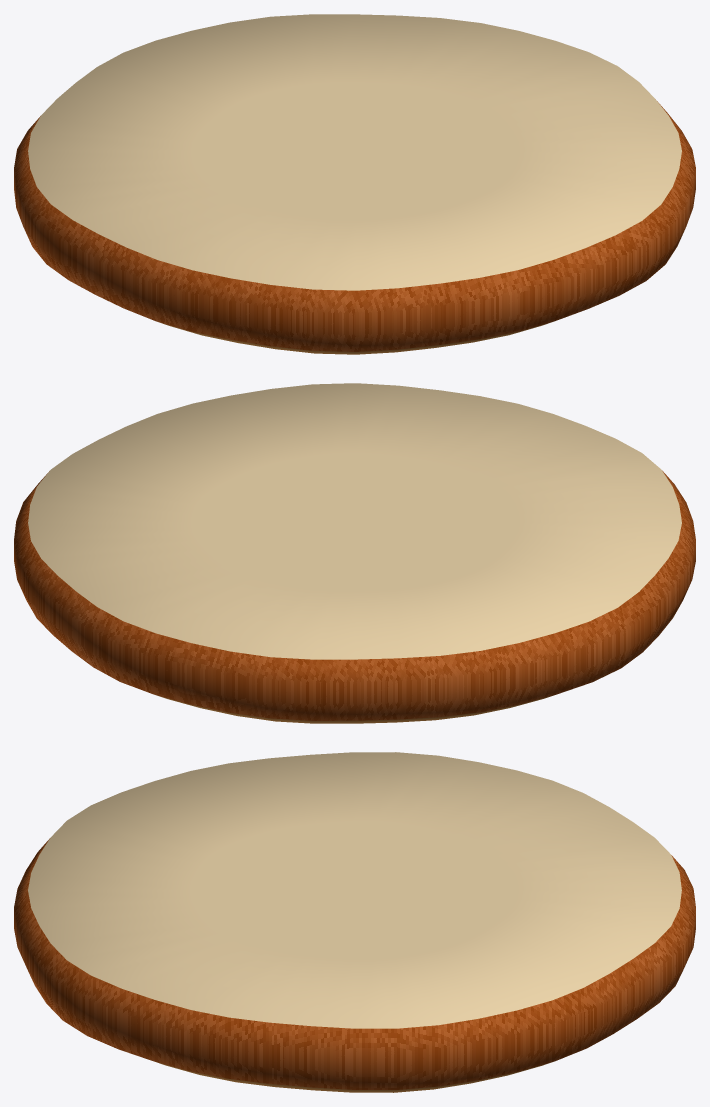
The model's file is burger_bun_bottom.glb.
The picture shows the model from 3 angles, top to bottom: view 1: azimuth 30°, elevation 25°; view 2: azimuth 150°, elevation 25°; view 3: azimuth 270°, elevation 25°; orthographic projection.
Visible parts, largest first — view 1: BurgerBun_Bottom; view 2: BurgerBun_Bottom; view 3: BurgerBun_Bottom.
Part boxes in pixels (x1=…): BurgerBun_Bottom: x1=14, y1=14, x2=695, y2=354; BurgerBun_Bottom: x1=14, y1=383, x2=695, y2=723; BurgerBun_Bottom: x1=14, y1=752, x2=695, y2=1092.
Size of the model in its own units: 0.1461 by 0.017 by 0.146.
Materials: 3 (1 with a texture image).
